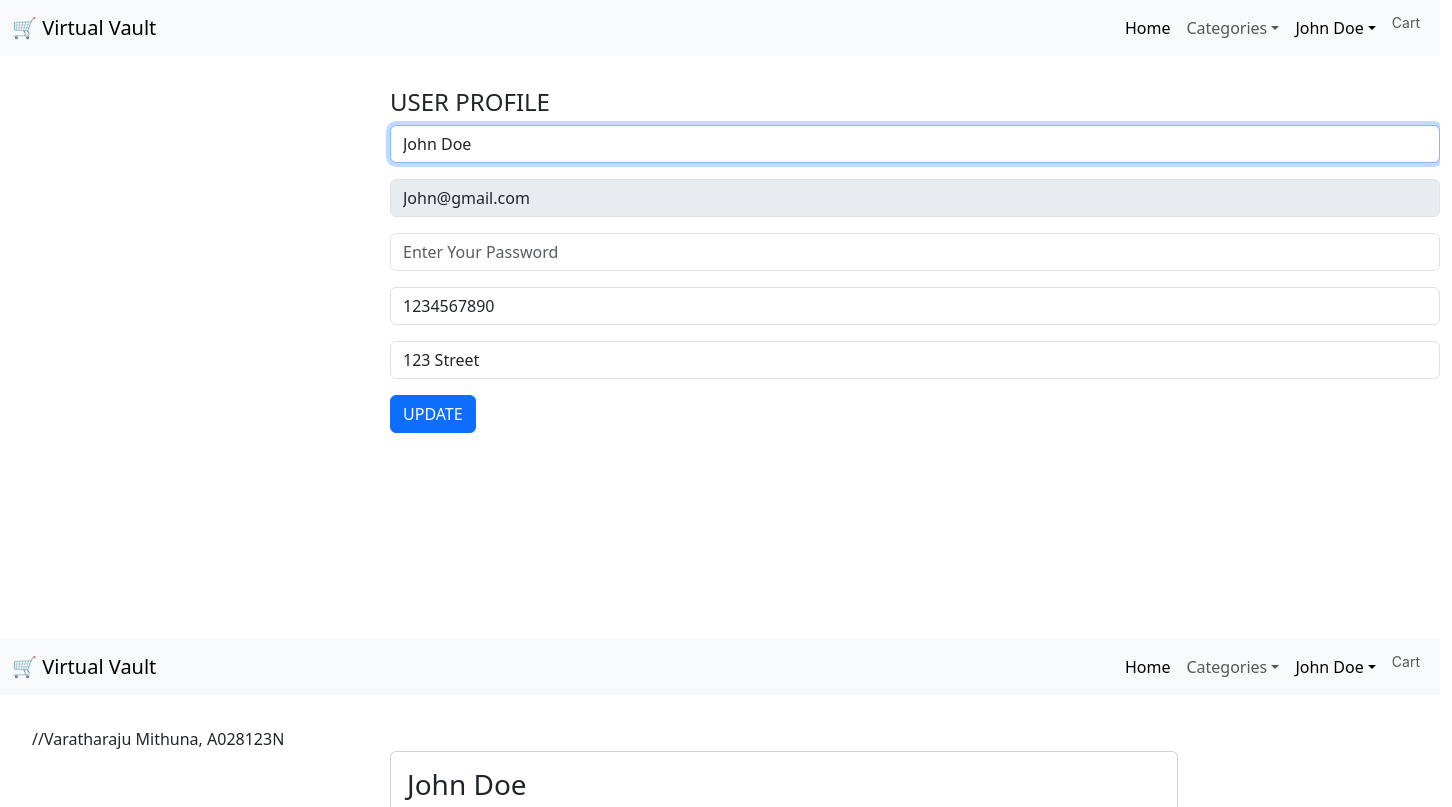
Profile to Dashboard integration › Dashboard reflects full profile update
This screenshot has width=1452, height=807.
Note: Update profile name and address
Replace the text in the 1st field with placeholder "Enter Your Name" with "Jane Doe" at x=915, y=144, box [390,125,1440,163]
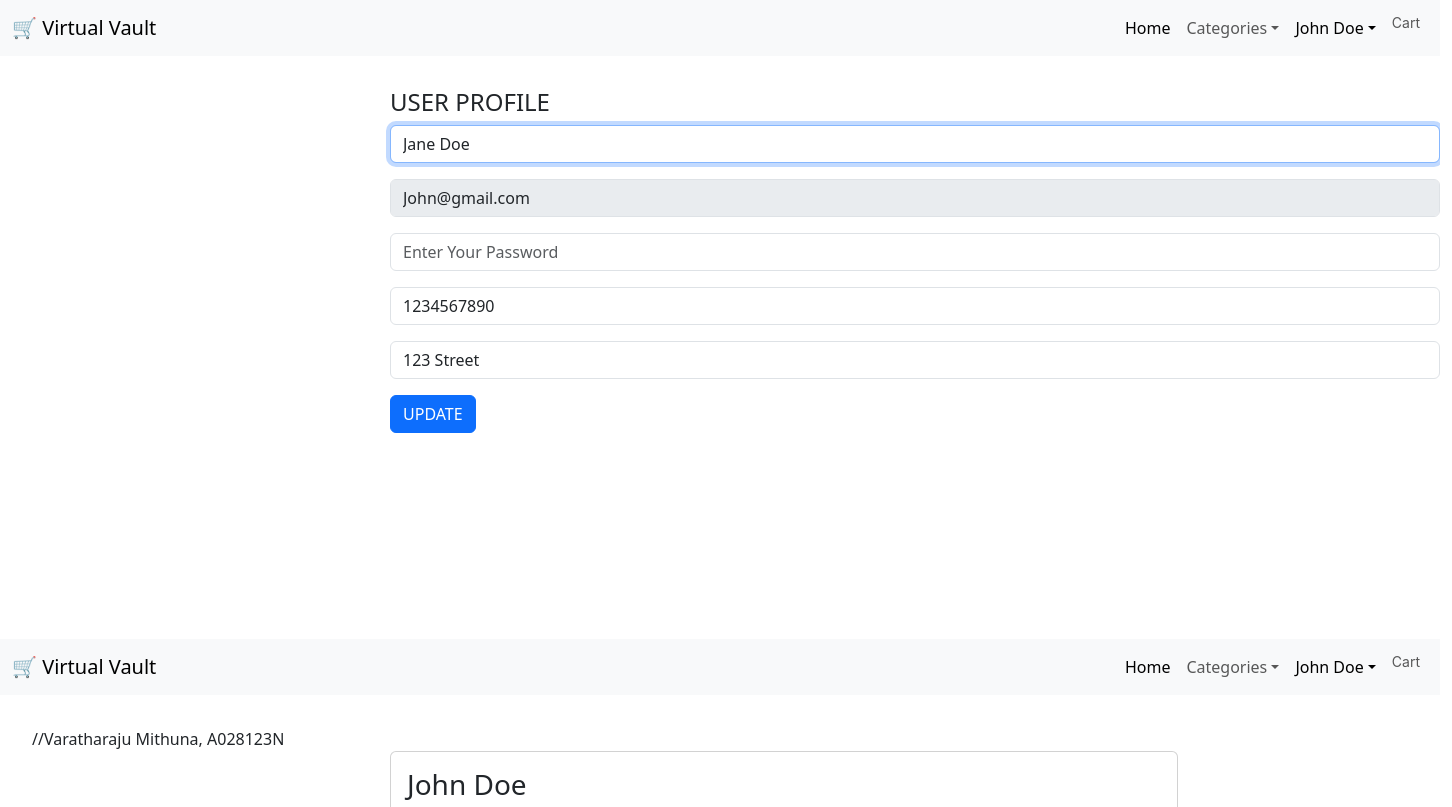
Replace the text in the 4th field with placeholder "Enter Your Address" with "456 Avenue" at x=915, y=360, box [390,341,1440,379]
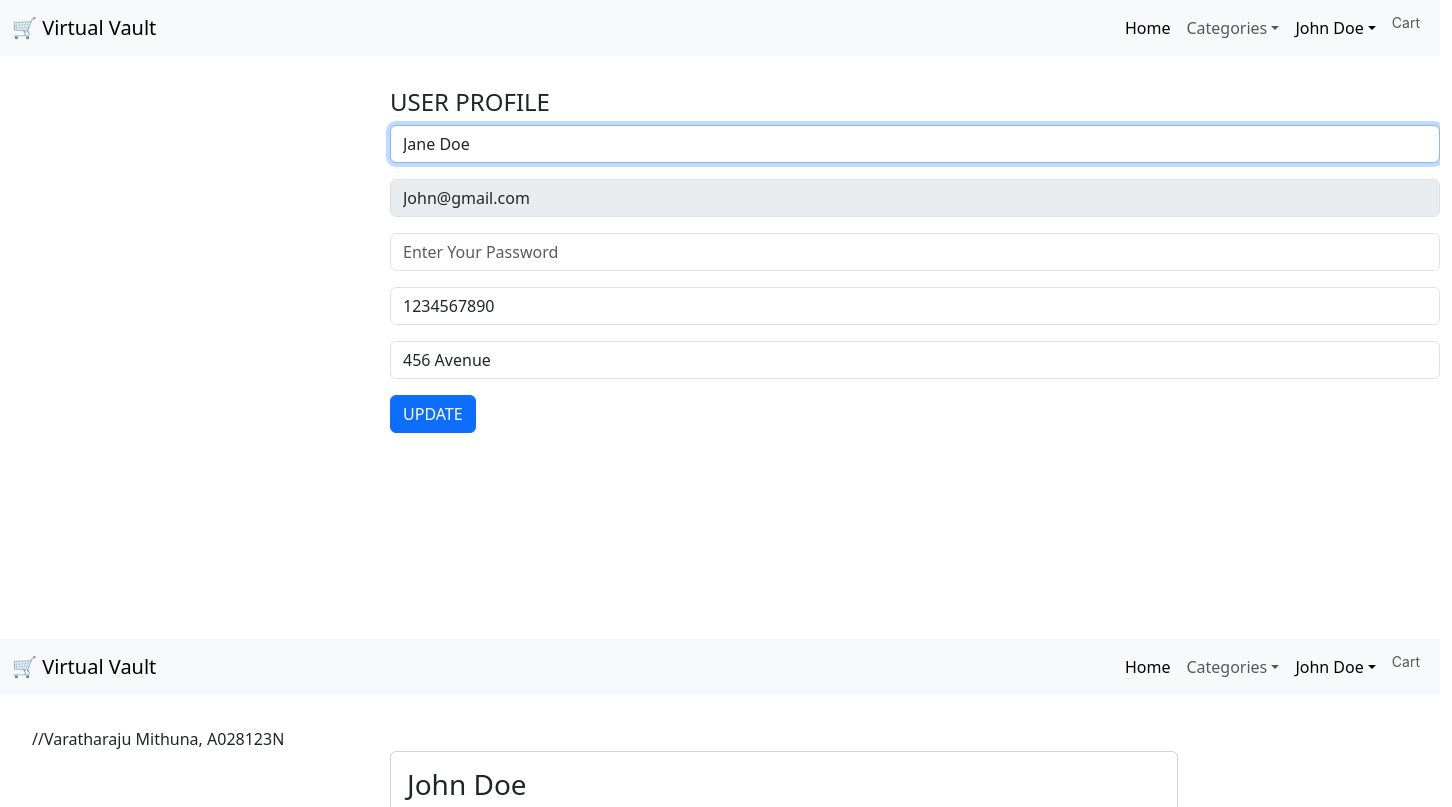
Click the button "UPDATE" at x=433, y=414, box [390,395,476,433]
(page scrolled)
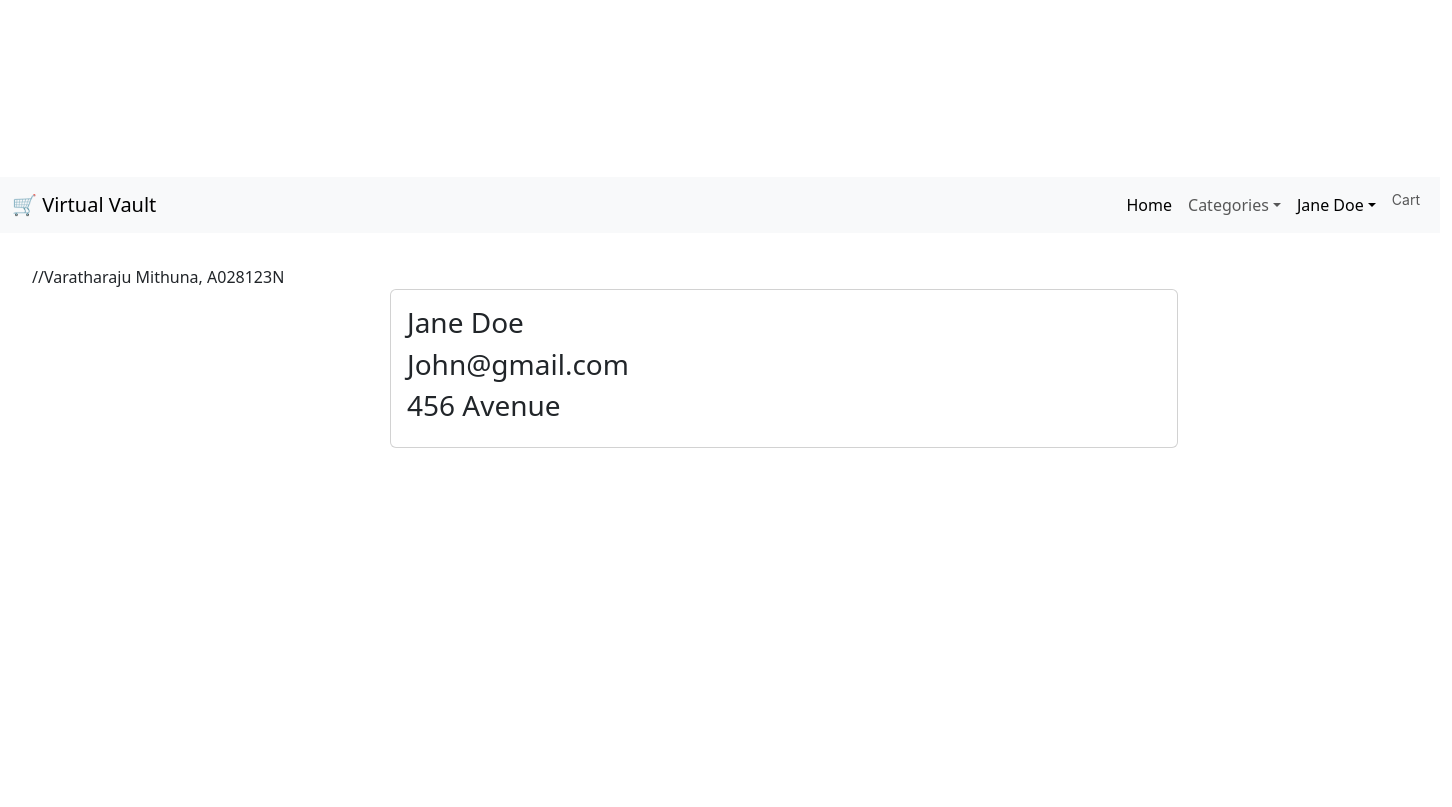
Expected: the heading "John@gmail.com" is shown, [407,345,629,383]
Now the heading "Jane Doe" is shown, box [407,303,524,341]
Now the heading "456 Avenue" is shown, box [407,386,561,424]
